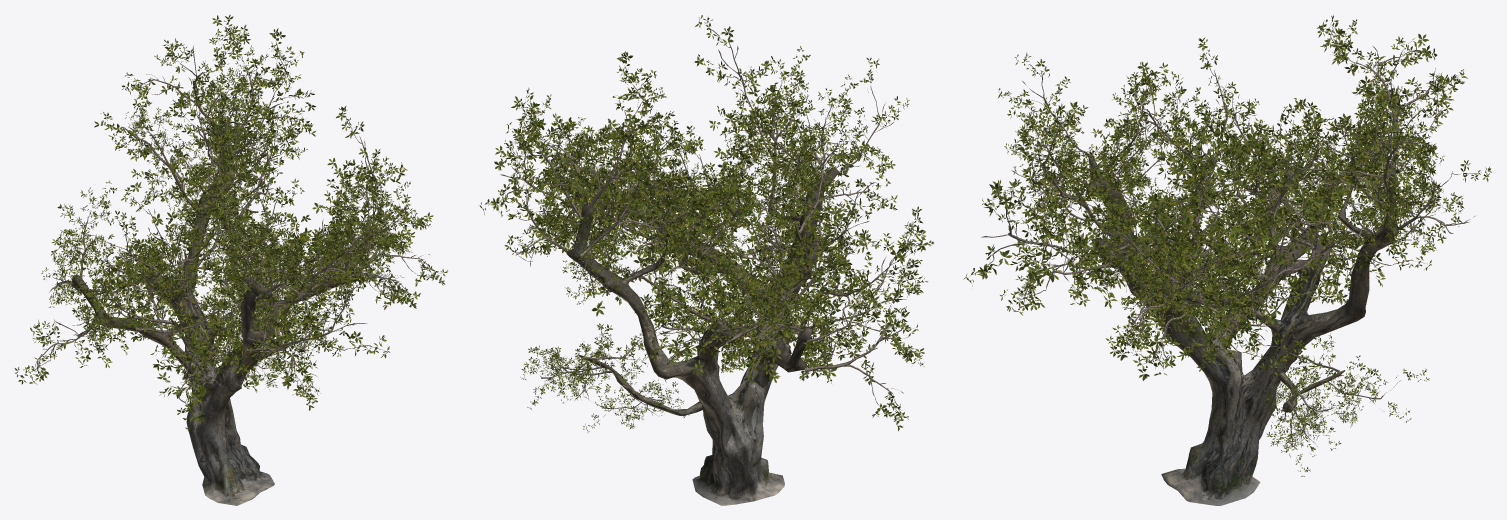
The model's file is island_tree_01_lod0.glb.
The picture shows the model from 3 angles, left to right: view 1: azimuth 30°, elevation 25°; view 2: azimuth 150°, elevation 25°; view 3: azimuth 270°, elevation 25°; orthographic projection. The views are drawn at different scales.
Parts seen in each view (by area): view 1: island_tree_01_LOD0; view 2: island_tree_01_LOD0; view 3: island_tree_01_LOD0.
Boxes of the visible parts, x1,y1,x2,y2 form: island_tree_01_LOD0: [14, 14, 447, 505]; island_tree_01_LOD0: [479, 15, 933, 505]; island_tree_01_LOD0: [963, 15, 1491, 505].
Size of the model in its own units: 4.75 by 5.02 by 4.82.
3 materials, 3 textured.
